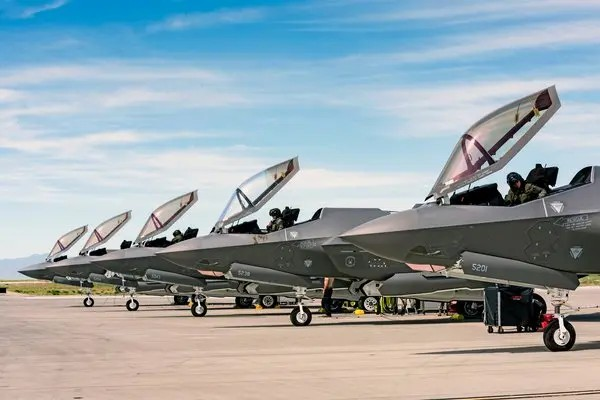F-35 Lightning: (336, 79, 600, 349), (157, 152, 332, 333), (17, 222, 146, 299)
